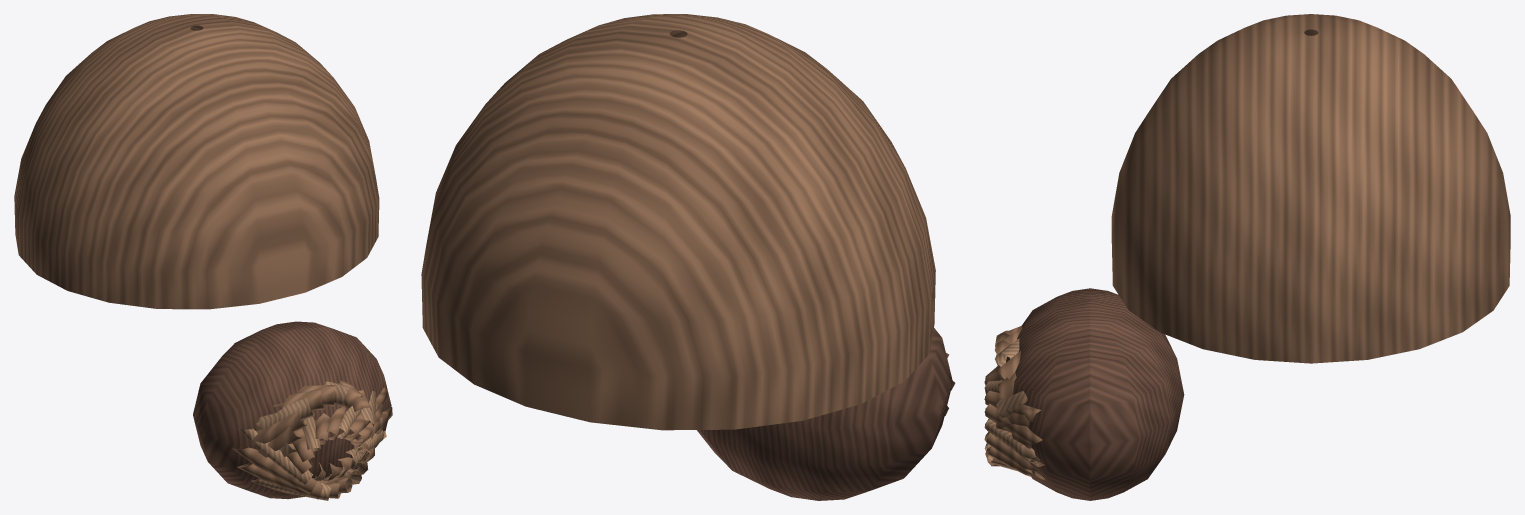
The model's file is hair_low_bun.glb.
3 views of the same model, side by side, from view 1: azimuth 30°, elevation 25°; view 2: azimuth 150°, elevation 25°; view 3: azimuth 270°, elevation 25° (orthographic). The views are drawn at different scales.
Visible parts, largest first — view 1: hair_low_bun; view 2: hair_low_bun; view 3: hair_low_bun.
Boxes of the visible parts, <box> form: hair_low_bun: <box>14,14,392,500</box>; hair_low_bun: <box>421,14,955,500</box>; hair_low_bun: <box>984,14,1510,500</box>.
Bounding box in the file's own units: 0.9171 × 1.07 × 1.12.
3 materials, 3 textured.
